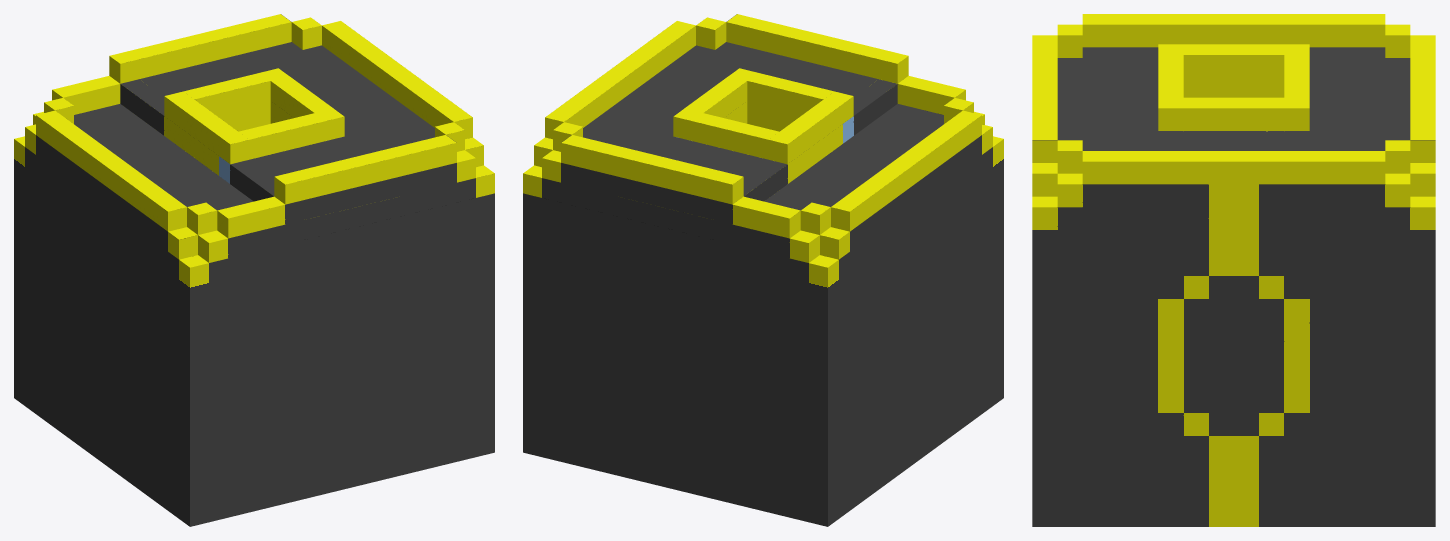
Rendered from savepoint.obj.
3 views of the same model, side by side, from view 1: azimuth 30°, elevation 25°; view 2: azimuth 150°, elevation 25°; view 3: azimuth 270°, elevation 25° (orthographic). The views are drawn at different scales.
Parts seen in each view (by area): view 1: savepoint; view 2: savepoint; view 3: savepoint.
Boxes of the visible parts, box(x1,y1,x2,y2) form: savepoint: box(14, 14, 494, 526); savepoint: box(523, 14, 1003, 526); savepoint: box(1032, 14, 1435, 526).
Size of the model in its own units: 16 by 16 by 16.
Materials: 1 (1 with a texture image).
